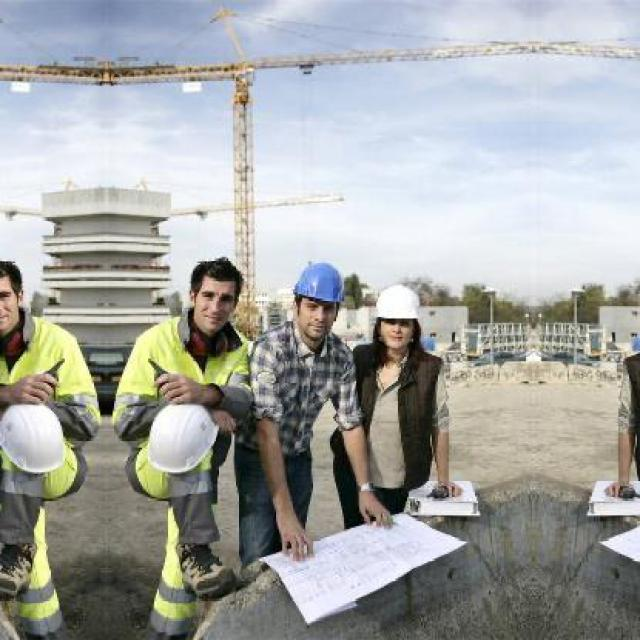Reflective-Jacket: (112, 315, 258, 480), (0, 319, 102, 486)
Safety-Helmet: (285, 256, 350, 310), (370, 279, 427, 326)
